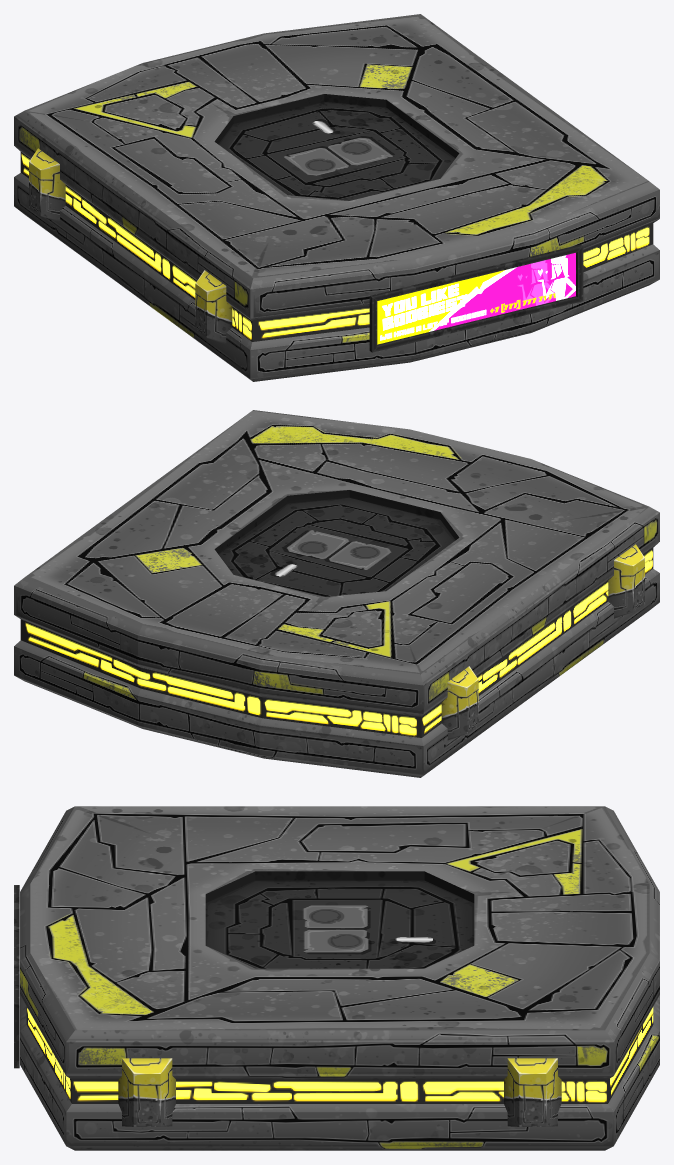
File: Building - 3.fbx
3 renders of one model, top to bottom at view 1: azimuth 30°, elevation 25°; view 2: azimuth 150°, elevation 25°; view 3: azimuth 270°, elevation 25°, orthographic. The views are drawn at different scales.
Visible parts, largest first — view 1: -BaseBuilding-Floors.001; view 2: -BaseBuilding-Floors.001; view 3: -BaseBuilding-Floors.001.
Part boxes in pixels (x1,y1,x2,y2): -BaseBuilding-Floors.001: (14, 14, 659, 381); -BaseBuilding-Floors.001: (14, 410, 659, 777); -BaseBuilding-Floors.001: (14, 806, 659, 1150).
Size of the model in its own units: 88.38 by 20 by 97.49.
